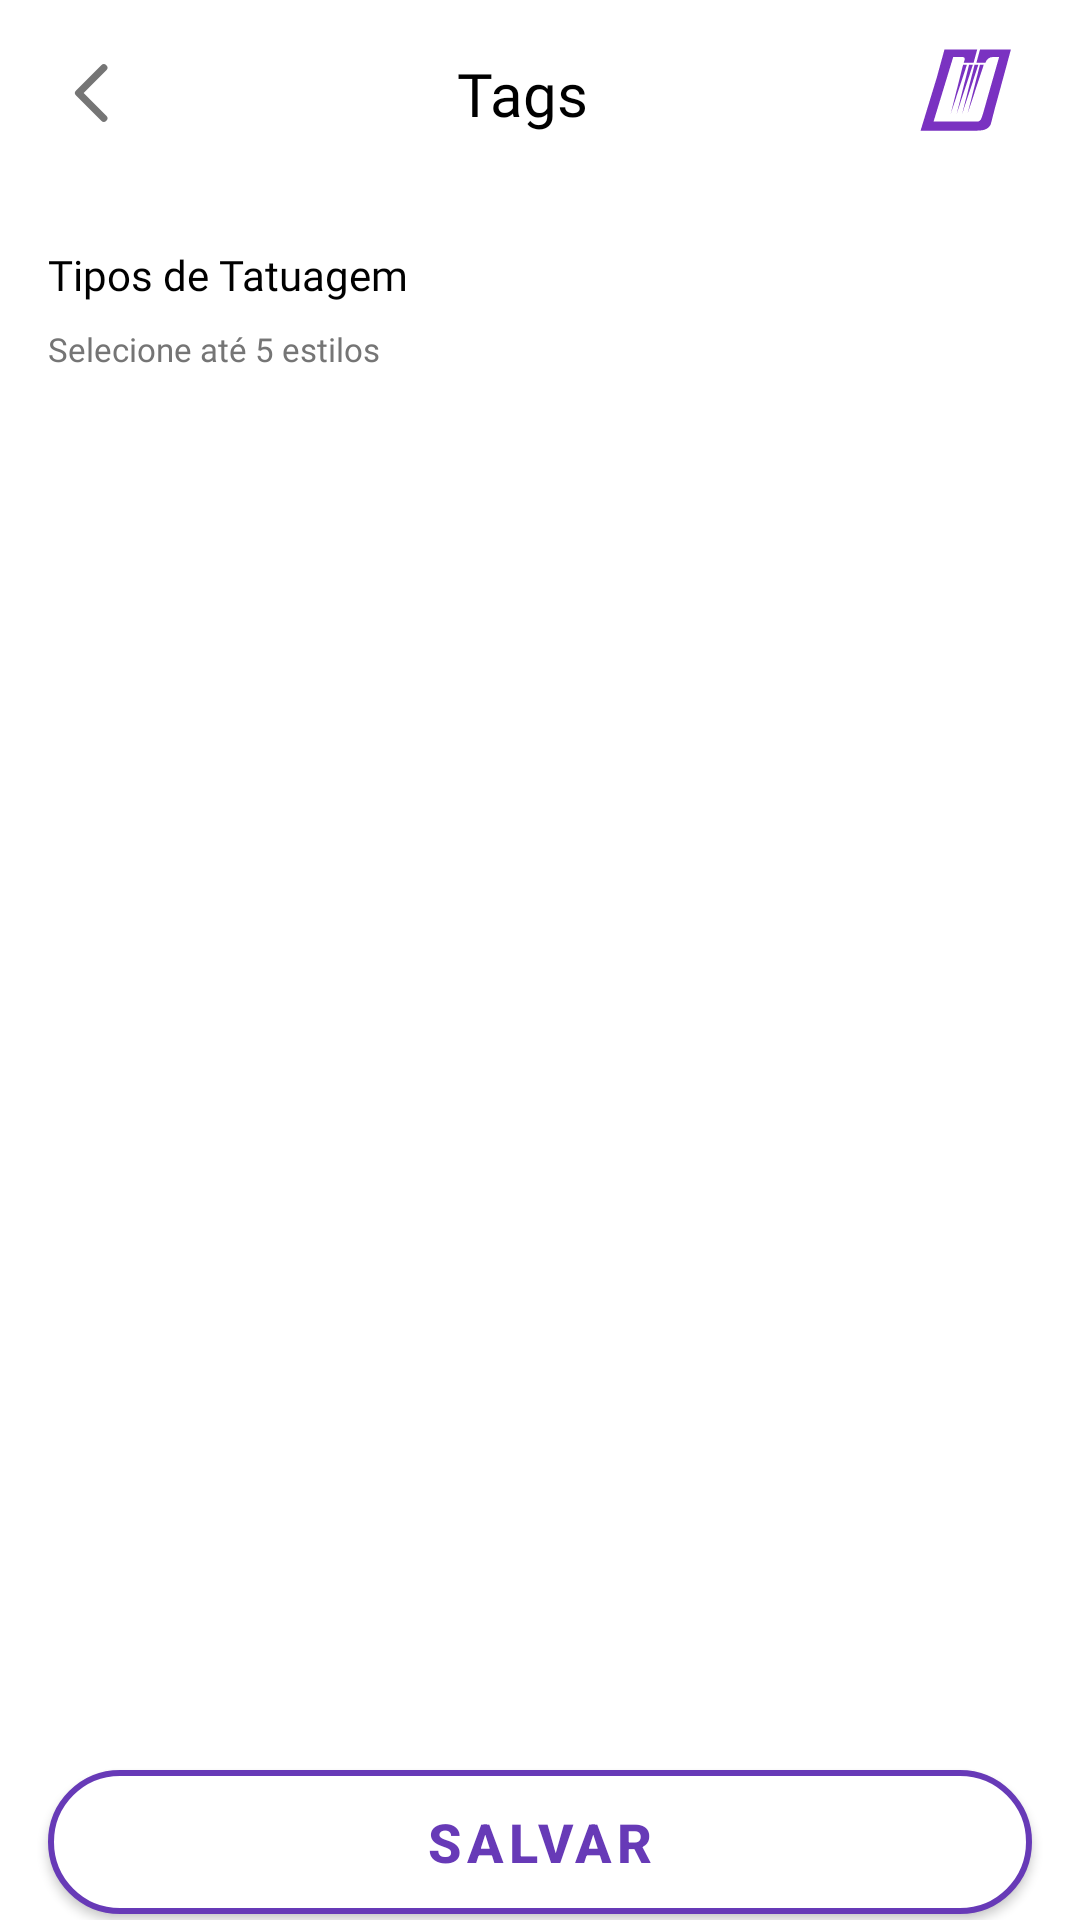

Where to tap for icons on this 1080px×1920px app screen, as point (x, y):
arrow chevron left: point (91, 93)
